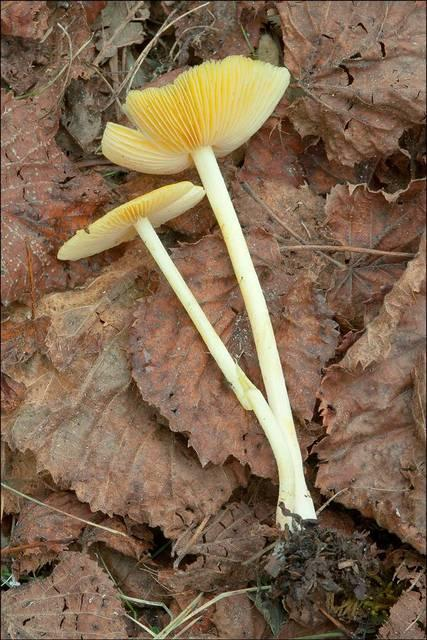edible_mushroom: (57, 53, 319, 534)
